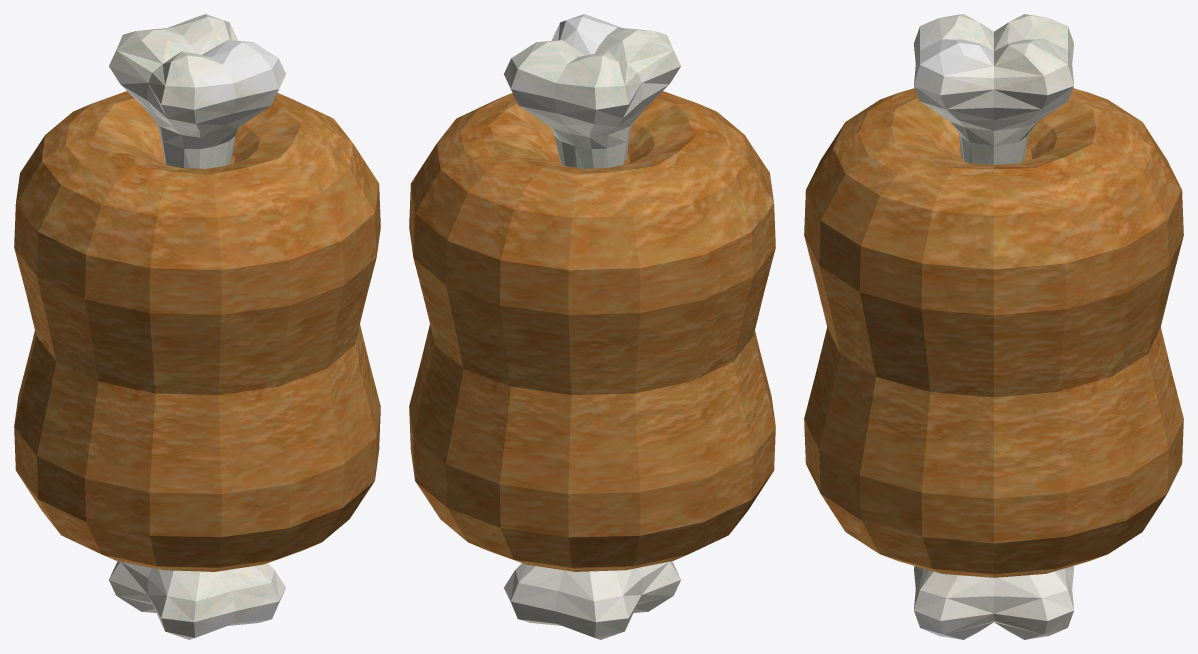
File: meat.fbx
3 renders of one model, left to right at view 1: azimuth 30°, elevation 25°; view 2: azimuth 150°, elevation 25°; view 3: azimuth 270°, elevation 25°, orthographic. The views are drawn at different scales.
Parts seen in each view (by area): view 1: Meat; view 2: Meat; view 3: Meat.
Boxes of the visible parts, x1,y1,x2,y2 form: Meat: [14, 14, 380, 639]; Meat: [409, 14, 775, 639]; Meat: [804, 14, 1183, 639].
Size of the model in its own units: 285 by 493 by 285.
2 materials, 2 textured.
